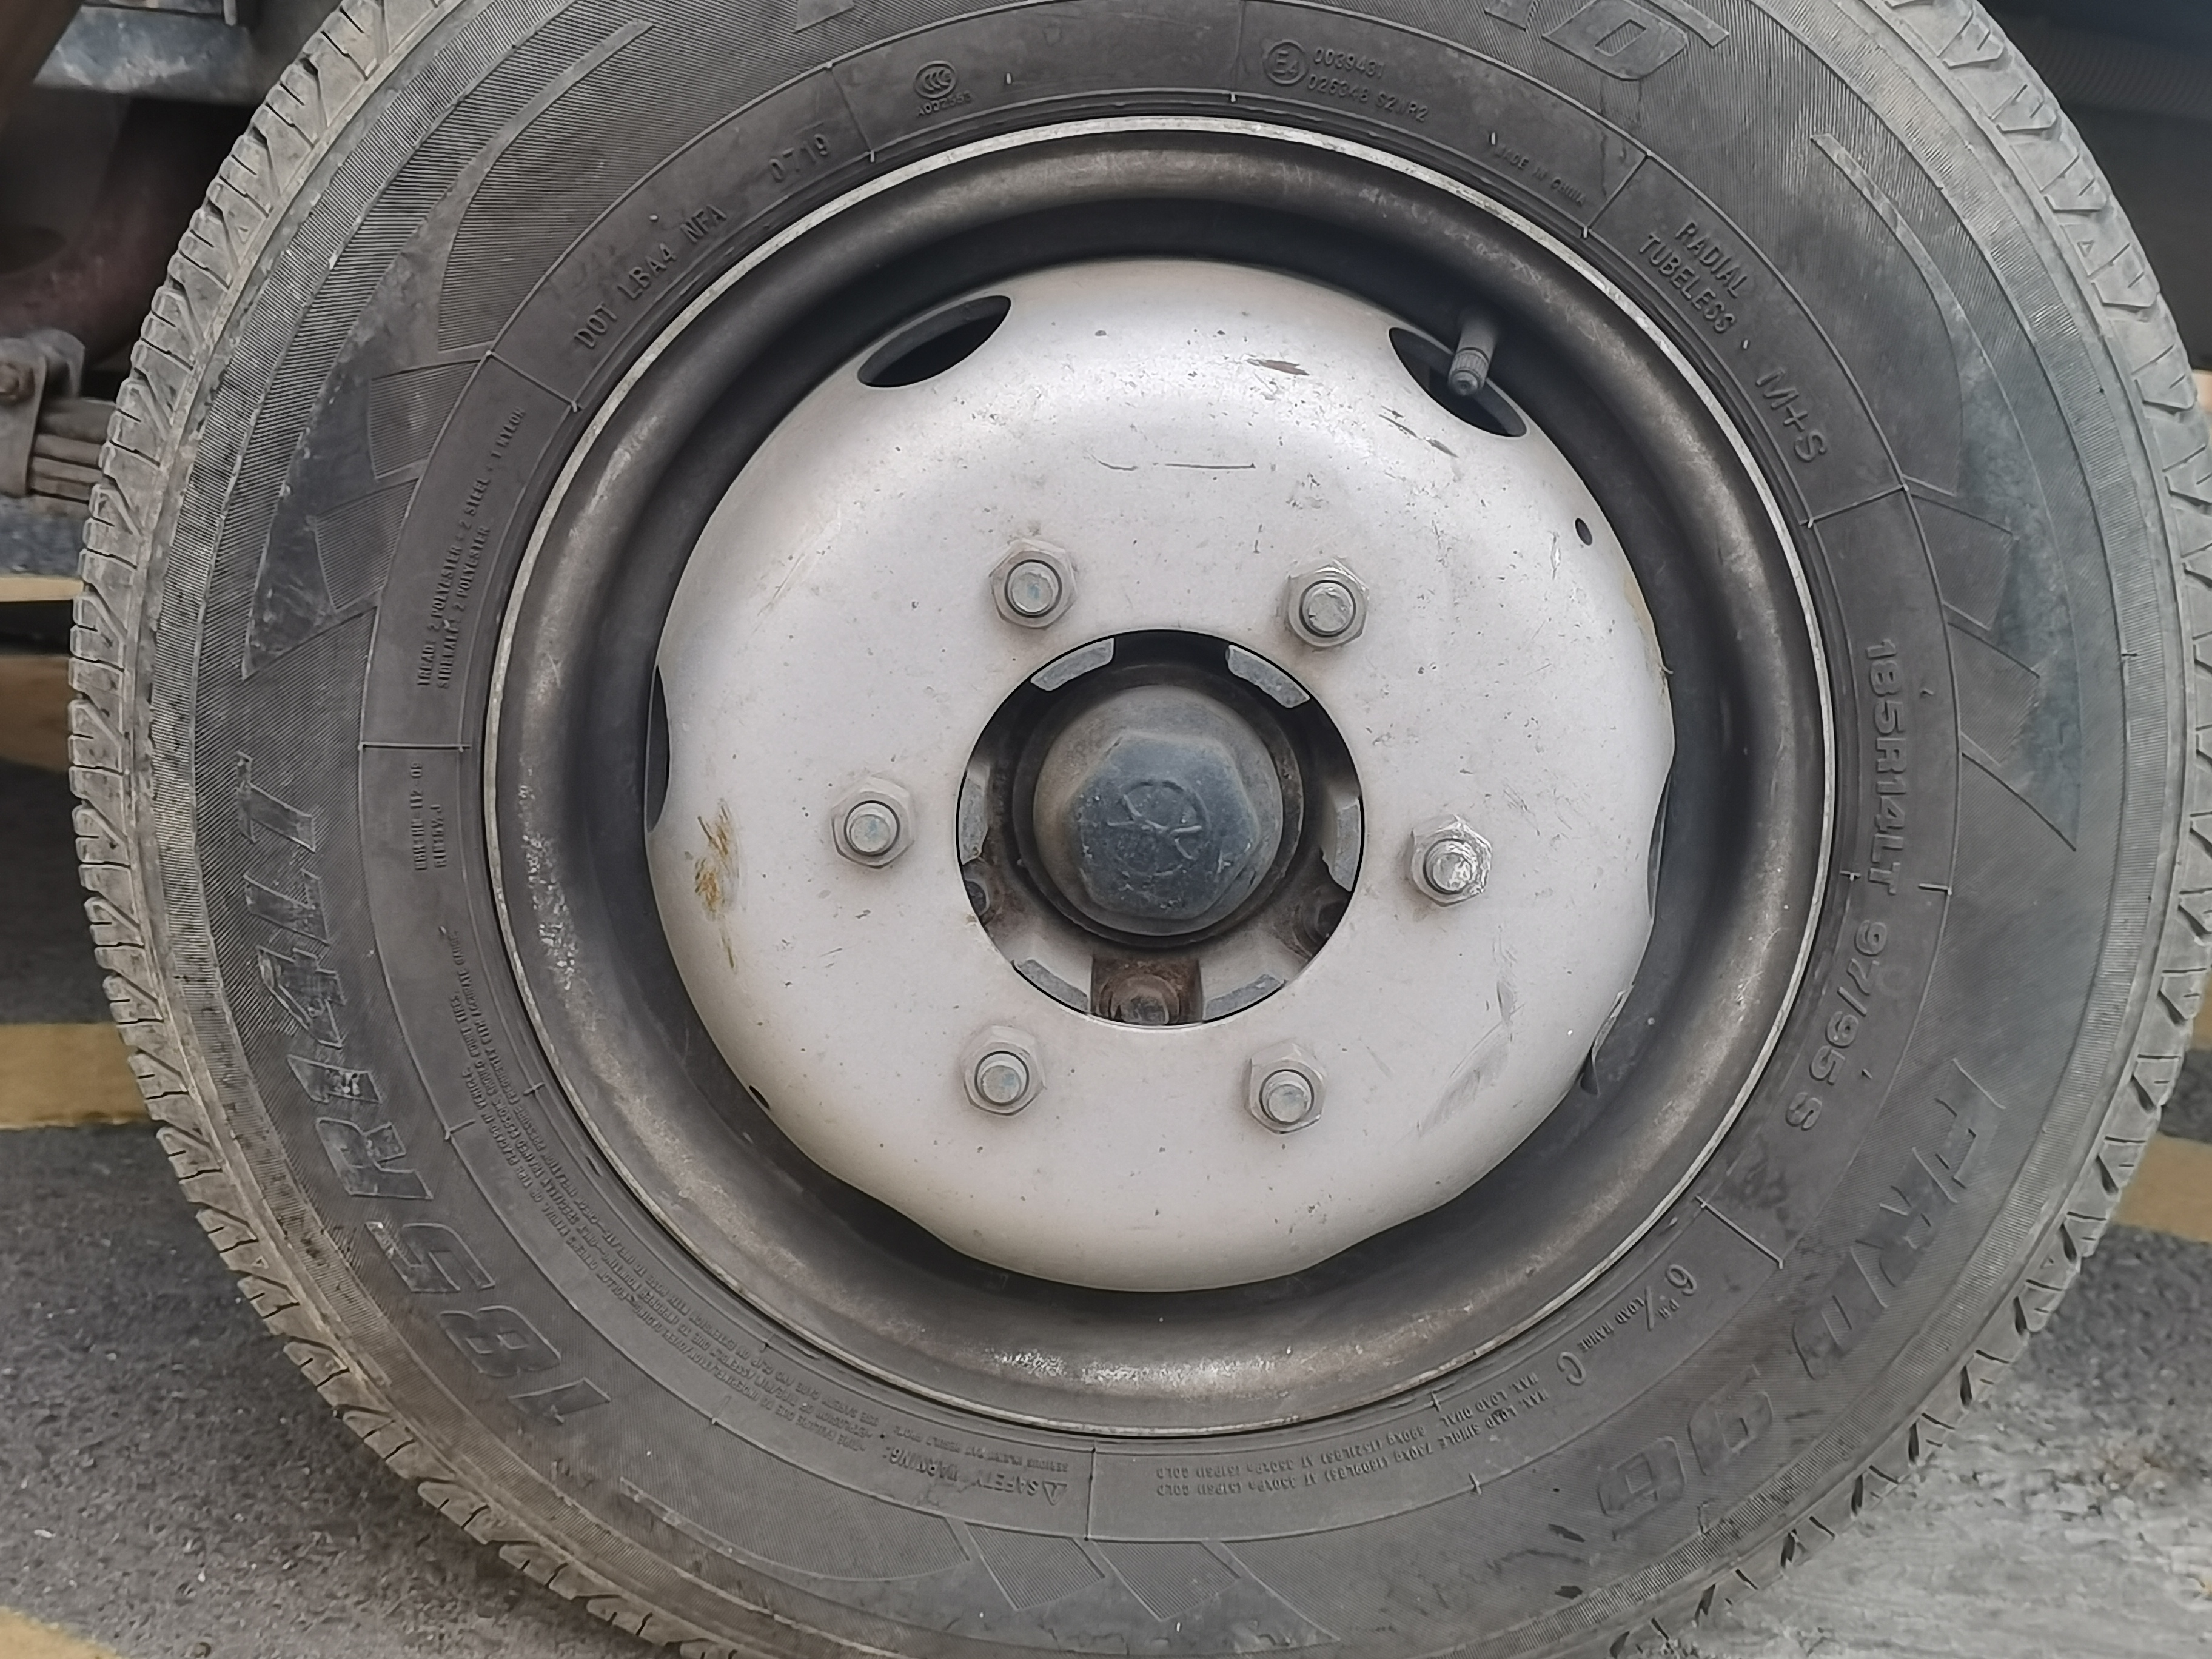bolt_b: (1399, 812, 1494, 910), (1240, 1039, 1332, 1138), (984, 537, 1080, 631), (1278, 556, 1371, 653), (827, 775, 918, 873), (958, 1025, 1049, 1119)
